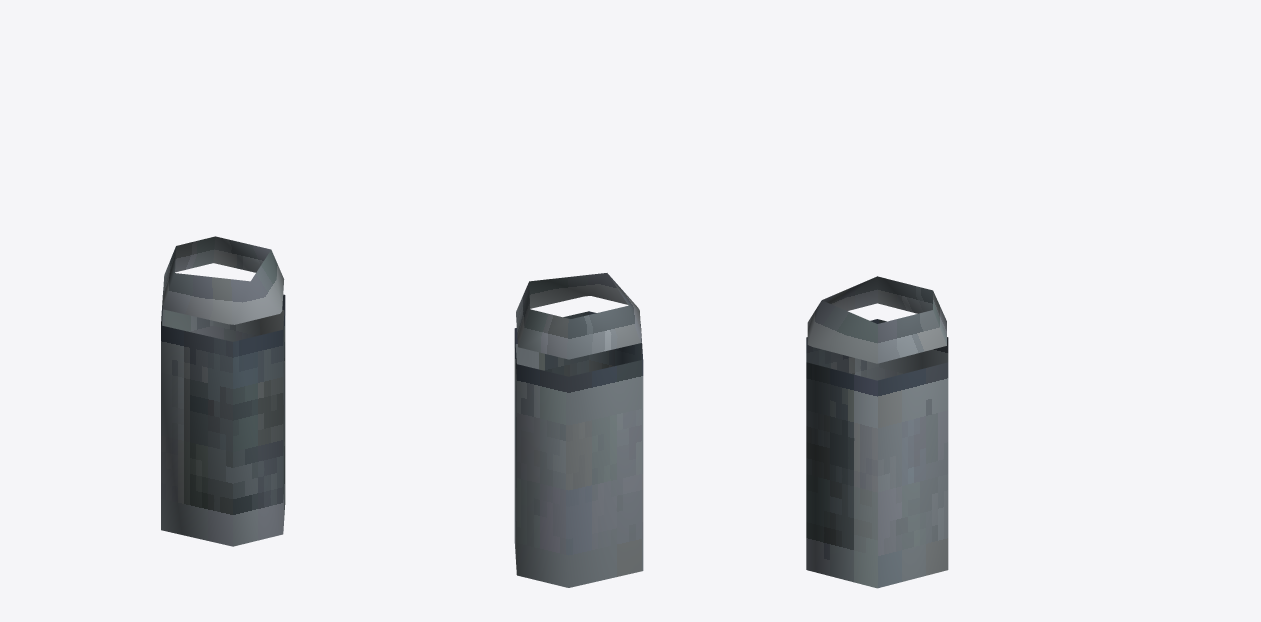
Rendered from eqp_tool_retrofit_kit_l2.fbx.
3 renders of one model, left to right at view 1: azimuth 30°, elevation 25°; view 2: azimuth 150°, elevation 25°; view 3: azimuth 270°, elevation 25°, orthographic. The views are drawn at different scales.
Visible parts, largest first — view 1: mesh_node; view 2: mesh_node; view 3: mesh_node.
Boxes of the visible parts, left/top/right/bottom form: mesh_node: left=161, top=236, right=285, bottom=546; mesh_node: left=514, top=273, right=643, bottom=587; mesh_node: left=806, top=276, right=948, bottom=588.
Bounding box in the file's own units: 0.1555 × 0.4121 × 0.37.
